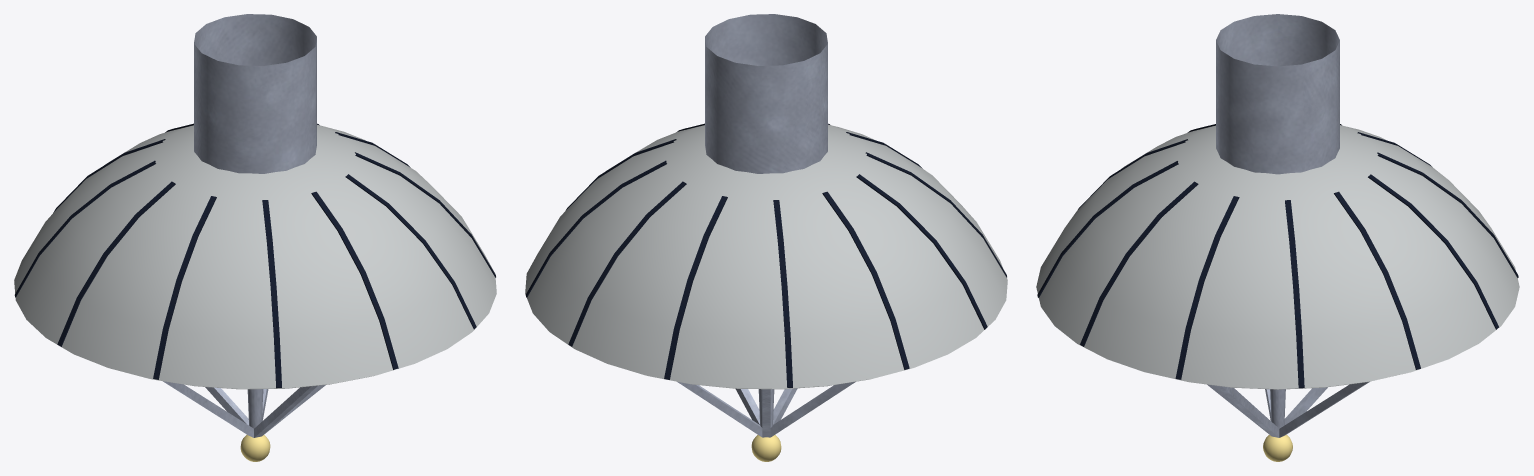
Rendered from SateliteAntena.glb.
The picture shows the model from 3 angles, left to right: view 1: azimuth 30°, elevation 25°; view 2: azimuth 150°, elevation 25°; view 3: azimuth 270°, elevation 25°; orthographic projection.
Visible parts, largest first — view 1: Antena; view 2: Antena; view 3: Antena.
Part boxes in pixels (x1,y1,x2,y2): Antena: (14, 14, 496, 461); Antena: (525, 14, 1007, 461); Antena: (1036, 14, 1519, 461).
Bounding box in the file's own units: 0.8358 × 0.8018 × 0.8358.
Materials: 1 (1 with a texture image).
